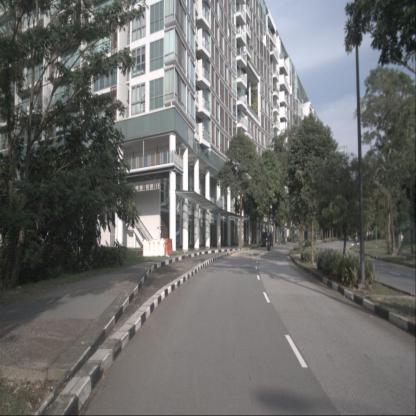barrier: (142, 238, 166, 257), (164, 238, 174, 256)
